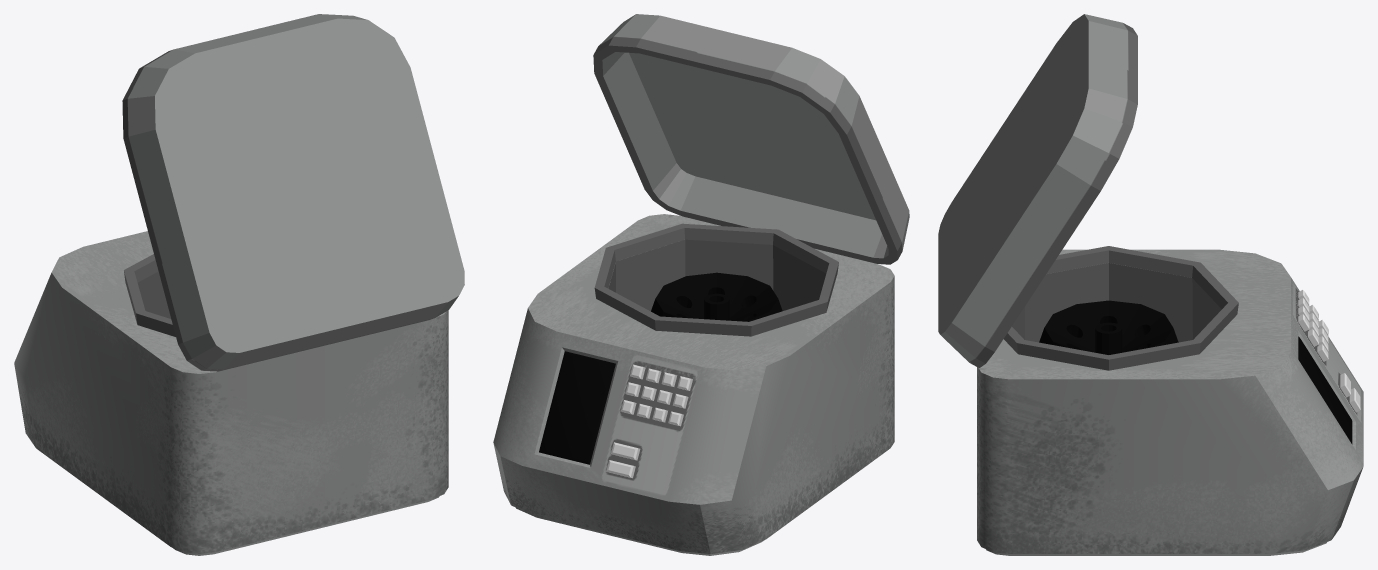
Rendered from Prop_Mixer.fbx.
3 views of the same model, side by side, from view 1: azimuth 30°, elevation 25°; view 2: azimuth 150°, elevation 25°; view 3: azimuth 270°, elevation 25° (orthographic). The views are drawn at different scales.
Visible parts, largest first — view 1: Cube.016, Centrifuge; view 2: Centrifuge, Cube.016, Screen.003, Rotor, Button.015, Button.014; view 3: Centrifuge, Cube.016, Rotor, Screen.003, Button.015.
Boxes of the visible parts, box(x1,y1,x2,y2) form: Cube.016: box(122, 14, 464, 371); Centrifuge: box(14, 231, 448, 555); Centrifuge: box(493, 214, 894, 555); Cube.016: box(593, 14, 909, 264); Screen.003: box(539, 351, 615, 464); Rotor: box(651, 272, 782, 321); Button.015: box(621, 364, 692, 426); Button.014: box(606, 442, 640, 478); Centrifuge: box(977, 246, 1363, 555); Cube.016: box(938, 14, 1137, 367); Rotor: box(1039, 300, 1178, 354); Screen.003: box(1298, 336, 1352, 444); Button.015: box(1298, 290, 1328, 361).
Bounding box in the file's own units: 52.27 × 82.76 × 72.45.
